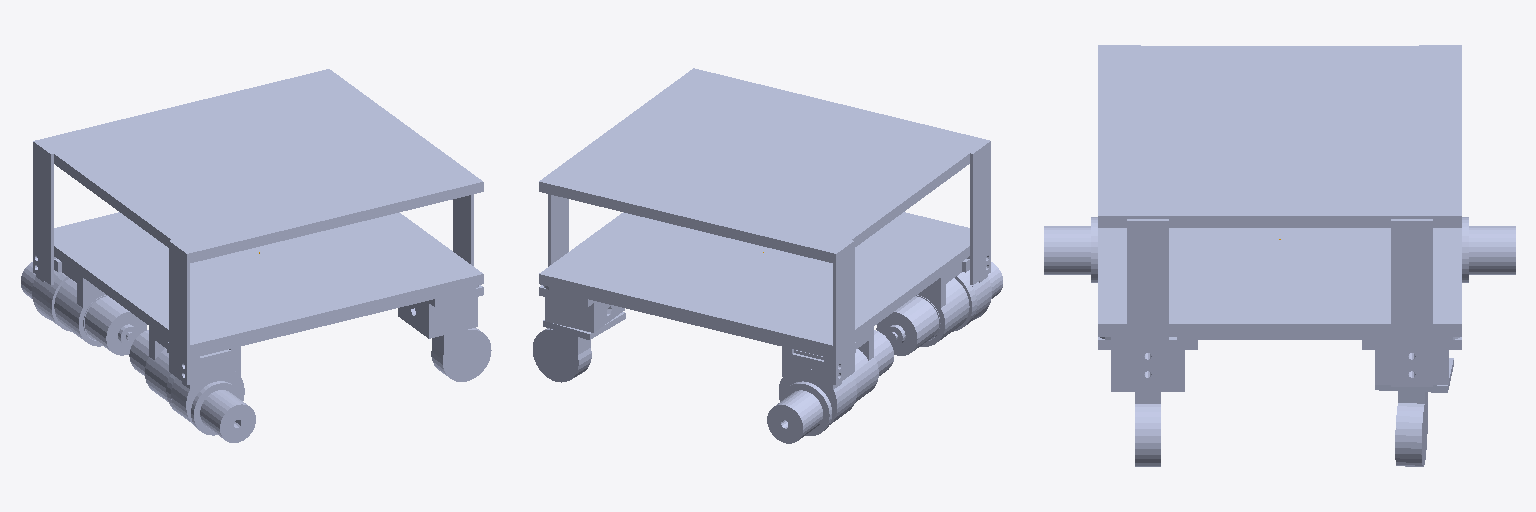
URDF robot description (mybot_description):
<robot
  name="mybot_description">

 <link name="base_footprint">
    <inertial>
      <mass value="0.0001" />
      <origin xyz="0 0 0" />
      <inertia ixx="0.0001" ixy="0.0" ixz="0.0"
          iyy="0.0001" iyz="0.0"
          izz="0.0001" />
    </inertial>
      <visual>
      <geometry>
              <box size="0.001 0.001 0.001"/>
          </geometry>
      <origin rpy="0 0 0" xyz="0 0 0"/>
      </visual>
  </link>

  <joint name="base_footprint_joint" type="fixed">
    <origin xyz="0 0 0" />
    <parent link="base_footprint" />
    <child link="base_link" />
  </joint>

  <link
    name="base_link">
    <inertial>
      <origin
        xyz="-0.013792 0.00020898 0.014694"
        rpy="0 0 0" />
      <mass
        value="2.7767" />
      <inertia
        ixx="0.031532"
        ixy="-6.631E-05"
        ixz="-0.0025124"
        iyy="0.039303"
        iyz="1.345E-05"
        izz="0.052357" />
    </inertial>
    <visual>
      <origin
        xyz="0 0 0"
        rpy="0 0 0" />
      <geometry>
        <mesh
          filename="package://mybot_description/meshes/base_link.STL" />
      </geometry>
      <material
        name="">
        <color
          rgba="0.79216 0.81961 0.93333 1" />
      </material>
    </visual>
    <collision>
      <origin
        xyz="0 0 0"
        rpy="0 0 0" />
      <geometry>
        <mesh
          filename="package://mybot_description/meshes/base_link.STL" />
      </geometry>
    </collision>
  </link>

</robot>

--- What the picture shows (computed from the rendered views, not written in the file) ---
The picture shows the robot from 3 angles, left to right: view 1: azimuth 30°, elevation 25°; view 2: azimuth 150°, elevation 25°; view 3: azimuth 270°, elevation 25°; orthographic projection.
Model mybot_description with 2 links and 1 joints (1 fixed), rooted at base_footprint, posed every joint at zero.
Visible links, largest first — view 1: base_link; view 2: base_link; view 3: base_link.
Boxes of the visible links, left/top/right/bottom form: base_link: left=21, top=69, right=491, bottom=442; base_link: left=533, top=68, right=1002, bottom=443; base_link: left=1044, top=45, right=1515, bottom=466.
Size in the robot's own frame: 0.3281 by 0.353 by 0.206 metres.
Meshes: 1 distinct files referenced, 1 mesh visuals loaded (1 binary STL).